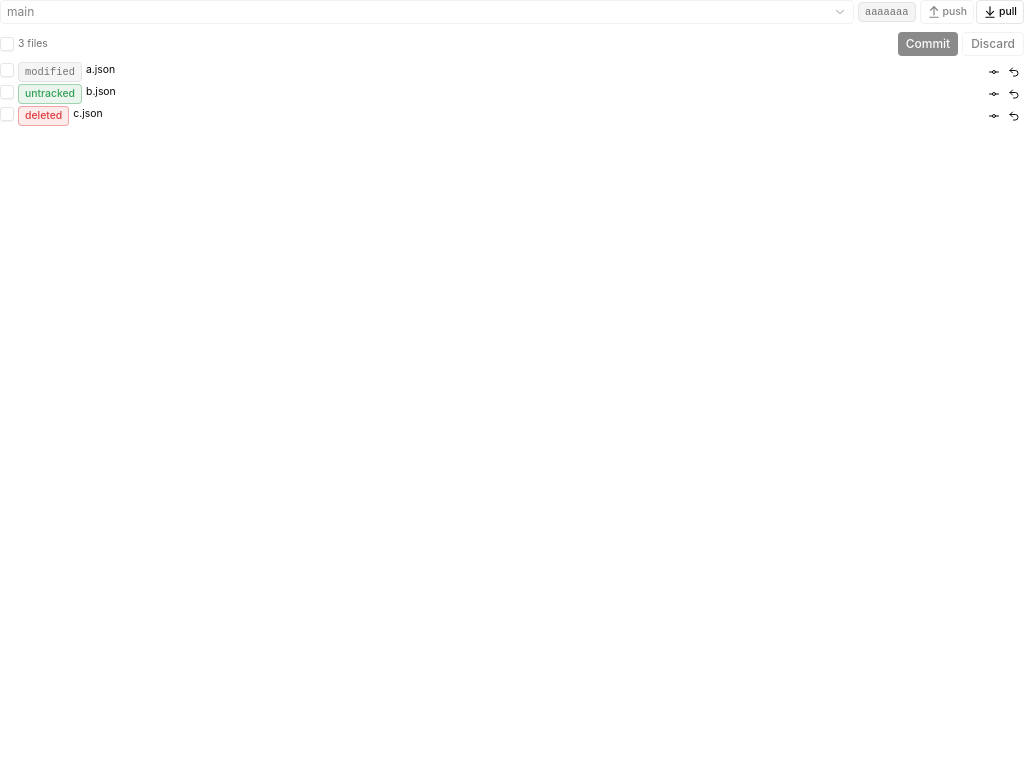
Test: committing goes through a dialog that names the files and takes a message › the ticked files are named, and the commit is disabled until there is a message
The width and height of the screenshot is (1024, 768).
Click the checkbox named "Select a.json" at (7, 70), box [0, 63, 14, 77]
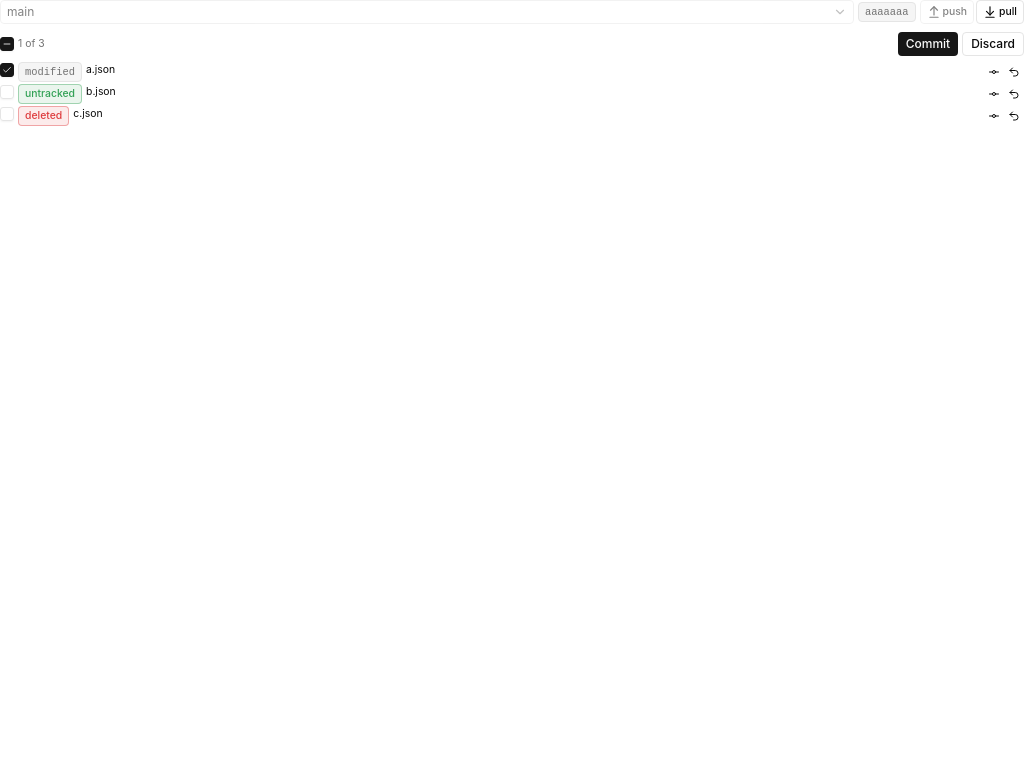
Click the checkbox named "Select c.json" at (7, 114), box [0, 107, 14, 121]
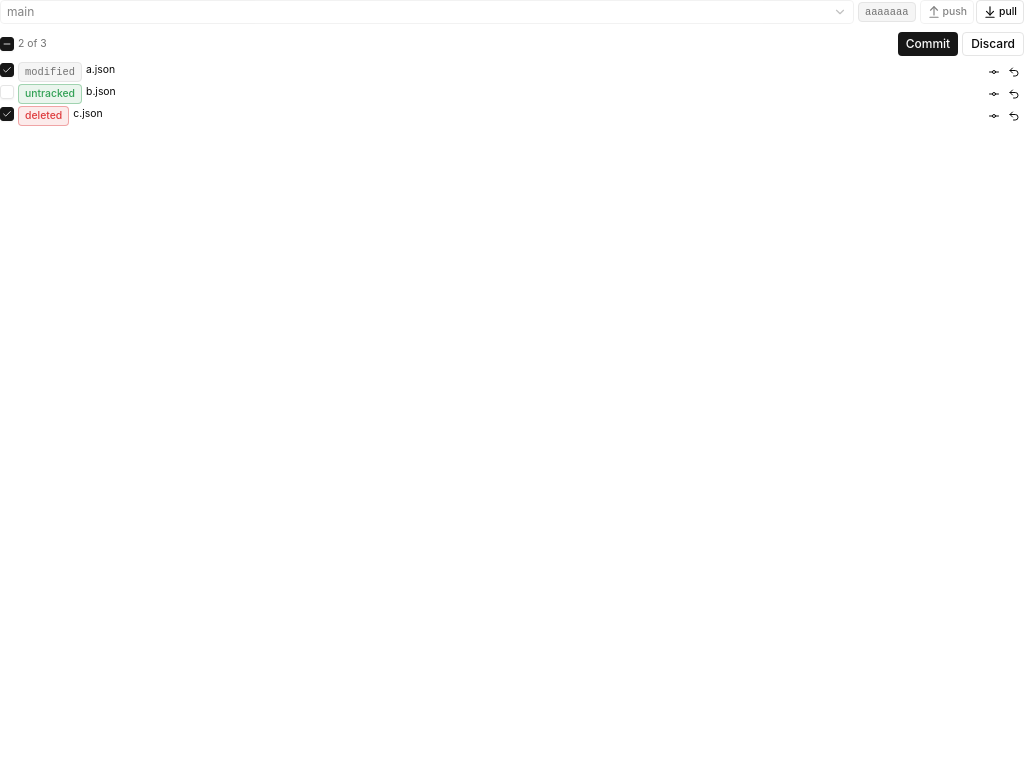
Click the button "Commit" at (928, 44), box [898, 32, 958, 56]
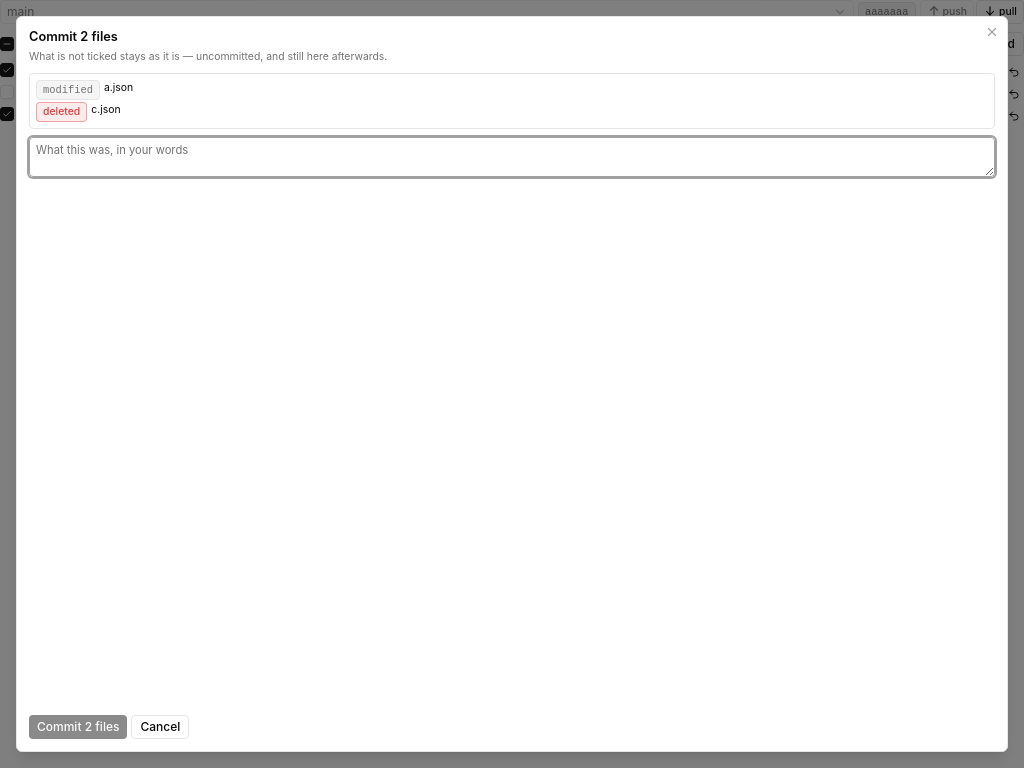
Now the heading "Commit 2 files" is shown, box [29, 29, 118, 44]
Now the list shows "a.json", box [104, 81, 133, 94]
Now the list shows "c.json", box [91, 103, 120, 116]
Type "two things" into the text box named "Commit message" at (512, 157), box [29, 137, 995, 177]
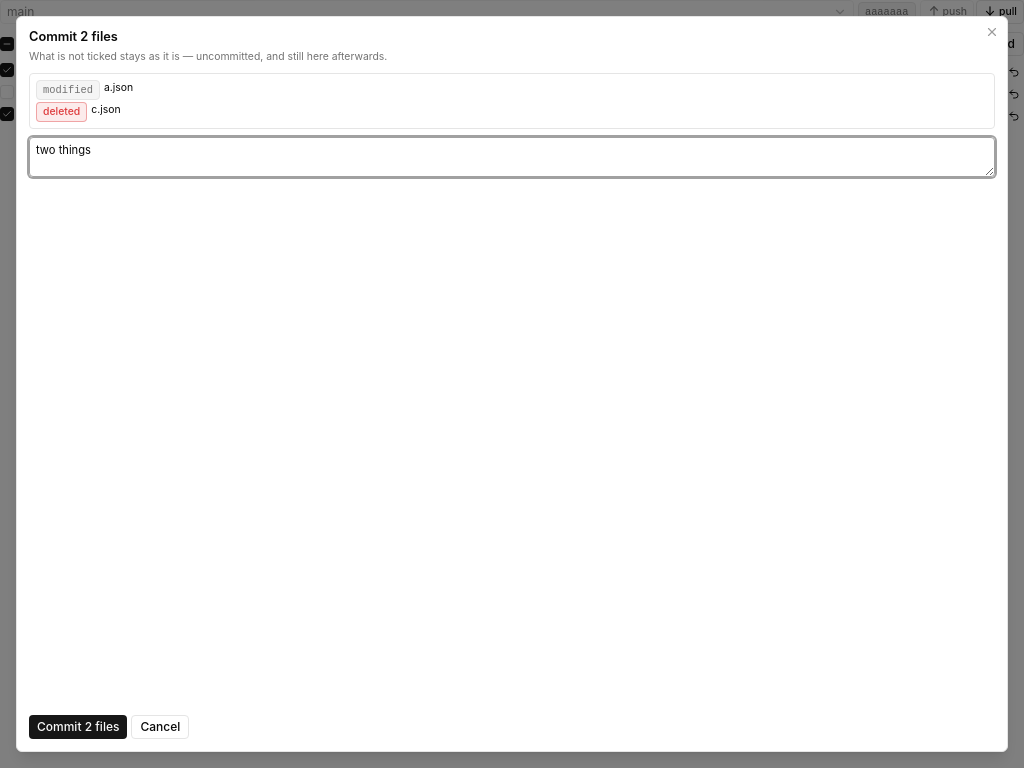
Now the button "Commit 2 files" is enabled
Click the button "Commit 2 files" at (78, 727), box [29, 715, 127, 739]
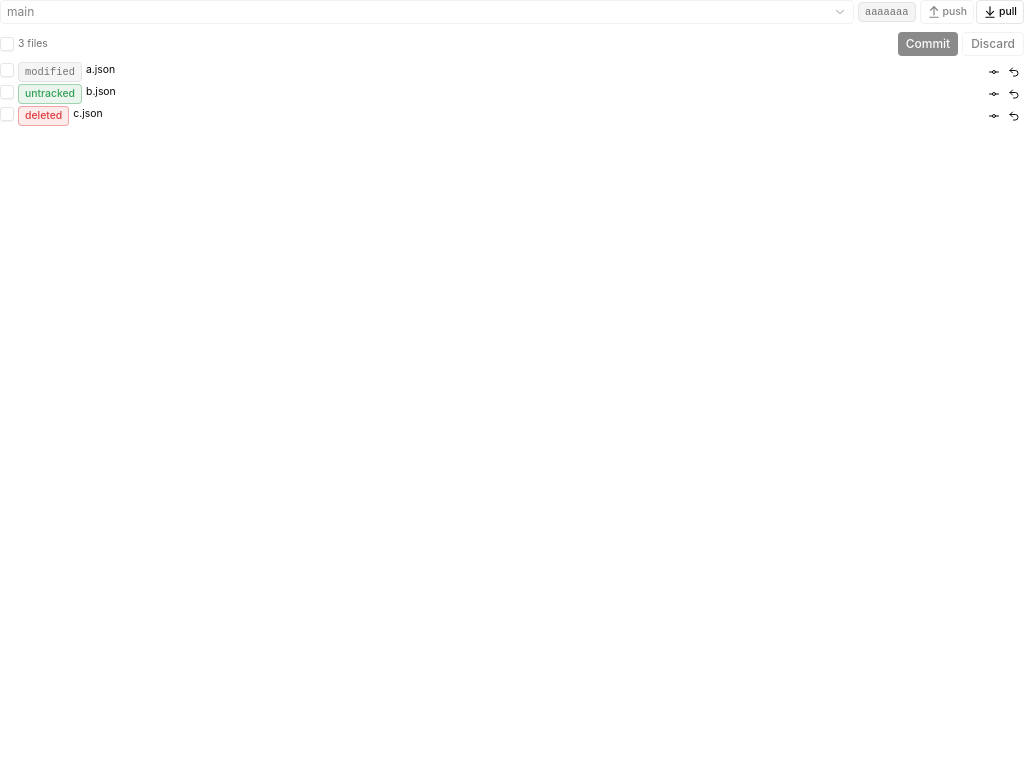
Now the dialog is gone
